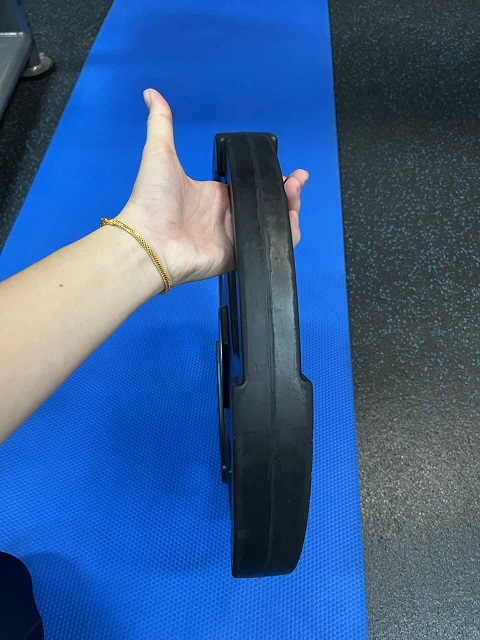weights: (211, 132, 312, 581)
